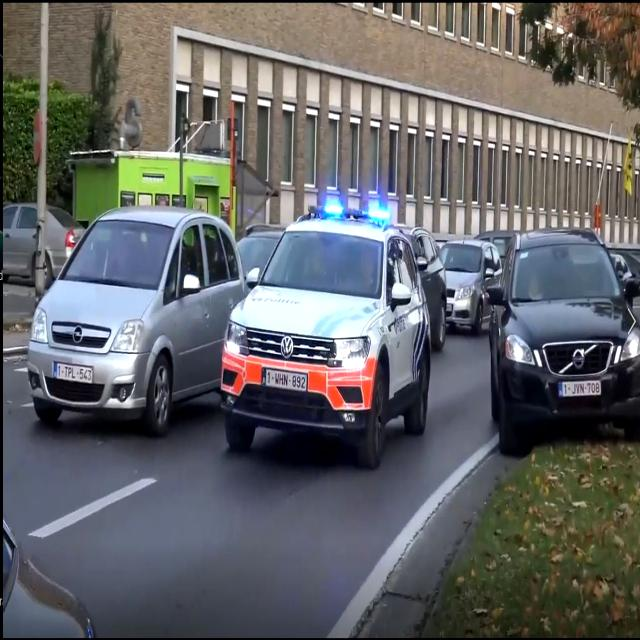emergency: (219, 192, 434, 467)
